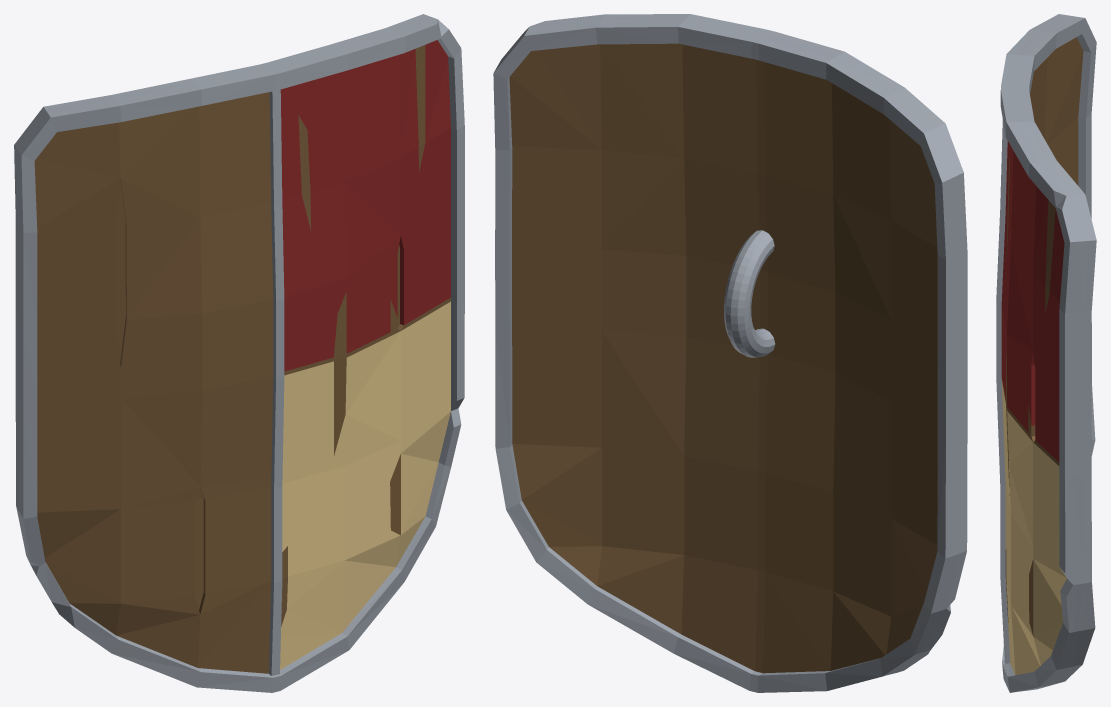
The model's file is Wooden guard shield.fbx.
3 views of the same model, side by side, from view 1: azimuth 30°, elevation 25°; view 2: azimuth 150°, elevation 25°; view 3: azimuth 270°, elevation 25° (orthographic). The views are drawn at different scales.
Parts seen in each view (by area): view 1: Shield 3; view 2: Shield 3; view 3: Shield 3.
Boxes of the visible parts, left/top/right/bottom form: Shield 3: left=14, top=14, right=464, bottom=692; Shield 3: left=493, top=14, right=967, bottom=692; Shield 3: left=996, top=14, right=1096, bottom=692.
Size of the model in its own units: 0.6301 by 0.8444 by 0.1305.
